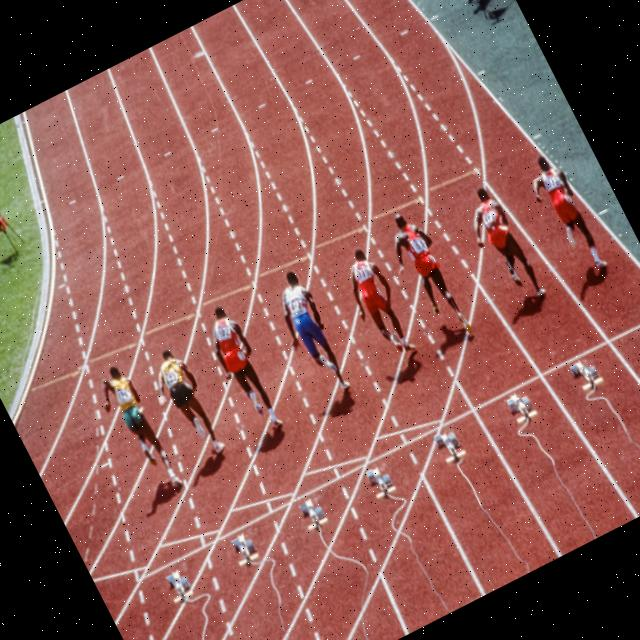Person: (376, 207, 478, 351), (89, 360, 185, 500), (262, 266, 358, 402), (519, 150, 611, 282), (198, 302, 288, 436), (458, 183, 549, 310), (331, 244, 420, 364), (144, 342, 231, 463)
